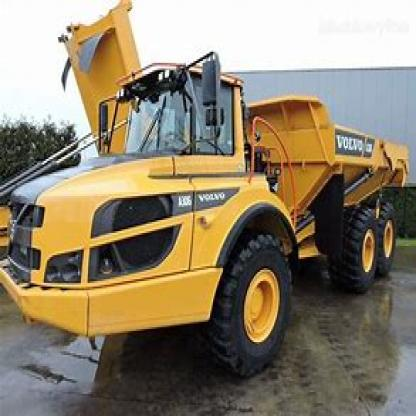dump_truck: (3, 52, 414, 364)
